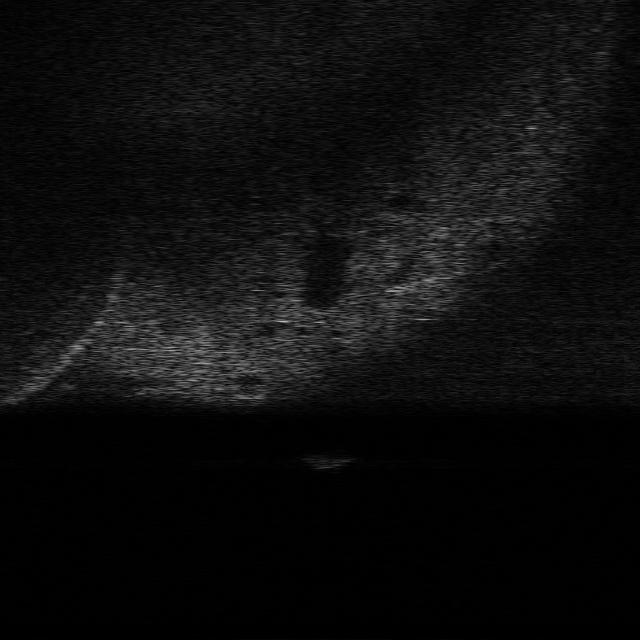cube: (305, 454, 355, 469)
